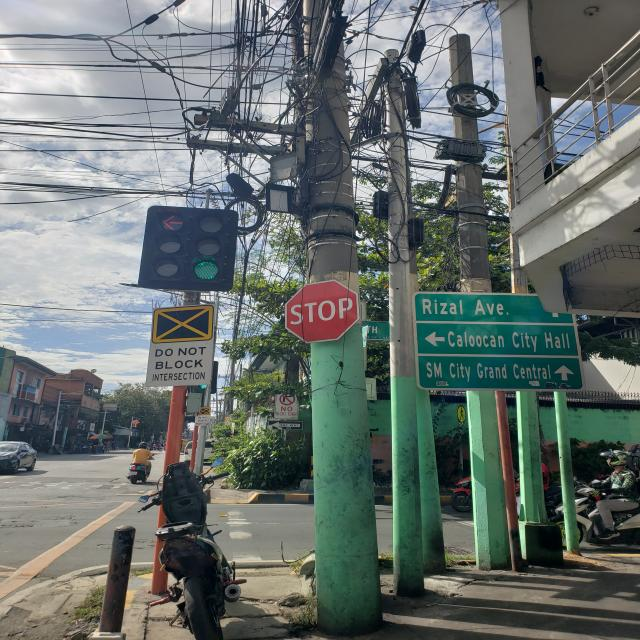stop-sign: (285, 279, 360, 344)
